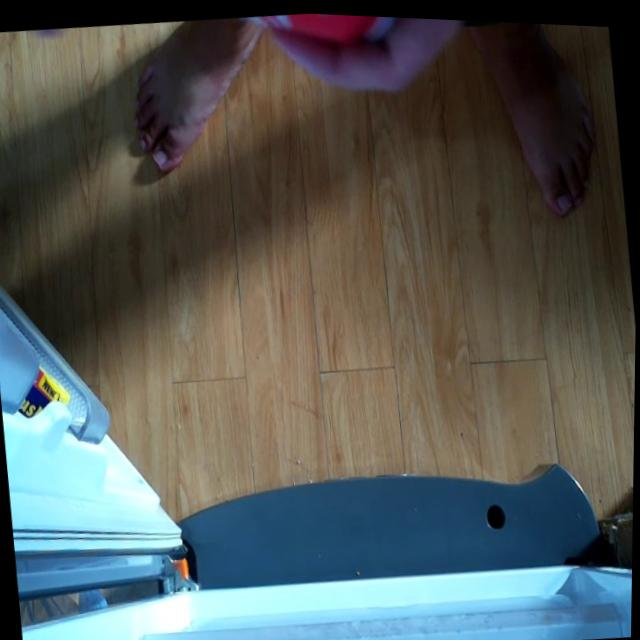coke: (234, 8, 400, 55)
